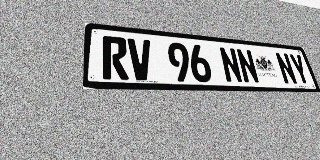6: (187, 44, 213, 82)
9: (167, 42, 193, 82)
N: (218, 47, 244, 83), (235, 48, 260, 84), (274, 52, 298, 85)
R: (102, 36, 129, 80)
V: (127, 38, 154, 81)
Y: (288, 53, 312, 85)
